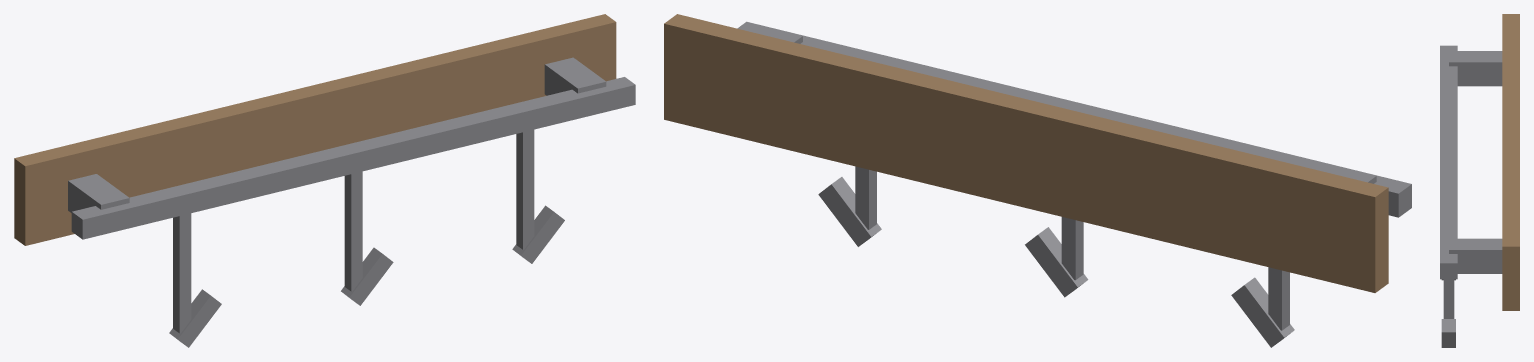
File: prop-meat-hook-rail.fbx
3 views of the same model, side by side, from view 1: azimuth 30°, elevation 25°; view 2: azimuth 150°, elevation 25°; view 3: azimuth 270°, elevation 25° (orthographic). The views are drawn at different scales.
Parts seen in each view (by area): view 1: prop-meat-hook-rail; view 2: prop-meat-hook-rail; view 3: prop-meat-hook-rail.
Boxes of the visible parts, left/top/right/bottom form: prop-meat-hook-rail: left=14, top=14, right=635, bottom=347; prop-meat-hook-rail: left=664, top=14, right=1411, bottom=347; prop-meat-hook-rail: left=1440, top=14, right=1519, bottom=347.
Size of the model in its own units: 62 by 18.55 by 9.
